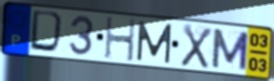3: (68, 14, 95, 57)
D: (28, 8, 68, 56)
H: (104, 16, 137, 64)
M: (210, 27, 250, 72), (136, 20, 174, 65)
X: (179, 23, 214, 71)
